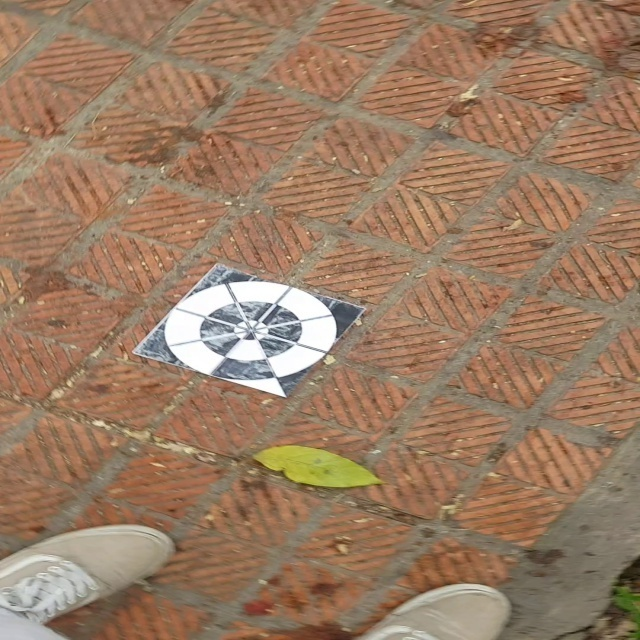landing-zone: (131, 258, 371, 406)
